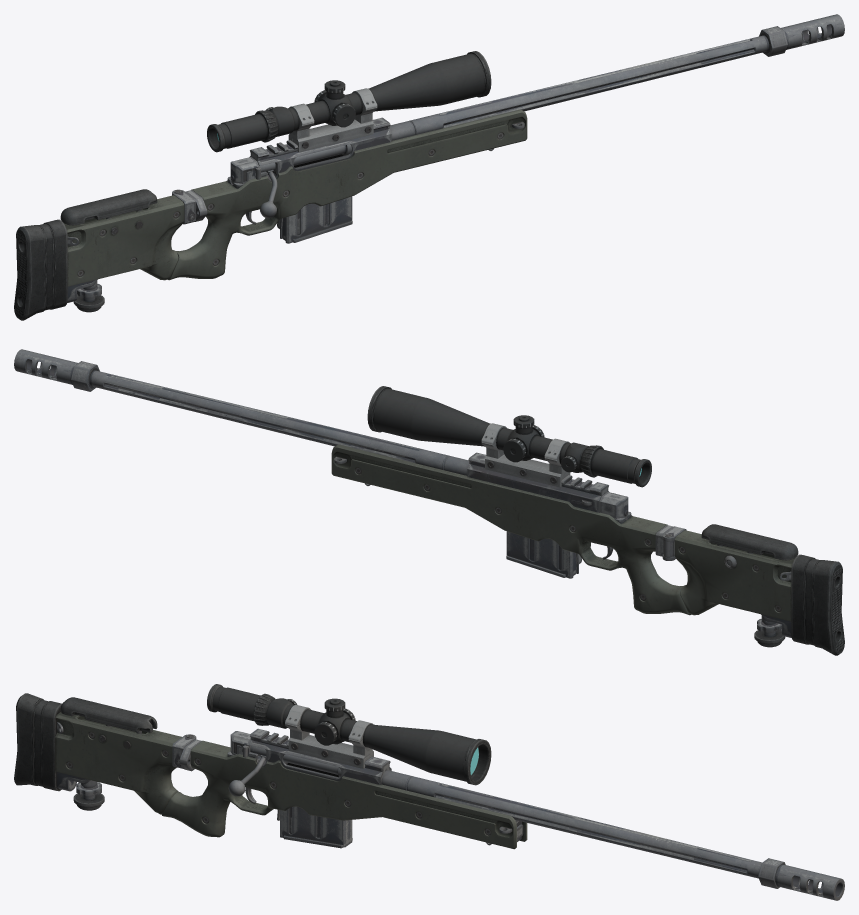
The model's file is SM_CrossroadsSniper.glb.
The picture shows the model from 3 angles, top to bottom: view 1: azimuth 30°, elevation 25°; view 2: azimuth 150°, elevation 25°; view 3: azimuth 330°, elevation 25°; orthographic projection.
Visible parts, largest first — view 1: SM_CrossroadsSniper; view 2: SM_CrossroadsSniper; view 3: SM_CrossroadsSniper.
Part boxes in pixels (x1,y1,x2,y2): SM_CrossroadsSniper: (14,14,844,320); SM_CrossroadsSniper: (14,349,844,655); SM_CrossroadsSniper: (14,684,844,900).
Bounding box in the file's own units: 1.18 × 0.2266 × 0.0787.
1 material, 1 textured.
